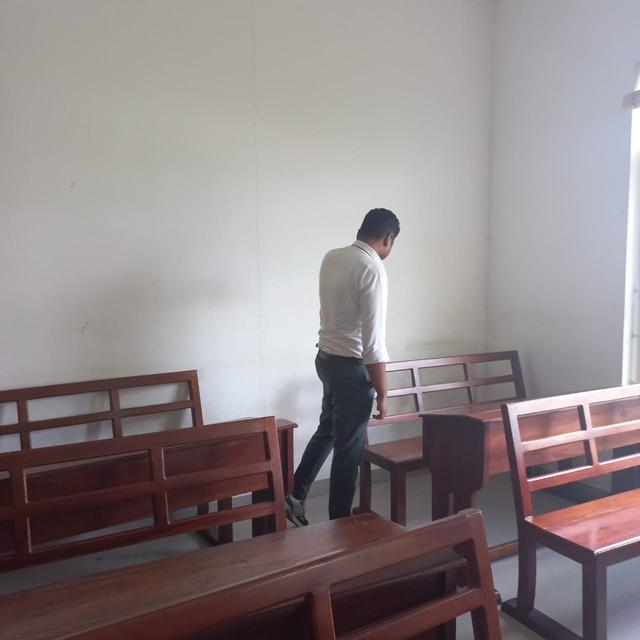no_gloves: (375, 398, 394, 420)
no_hairnet: (359, 206, 403, 237)
